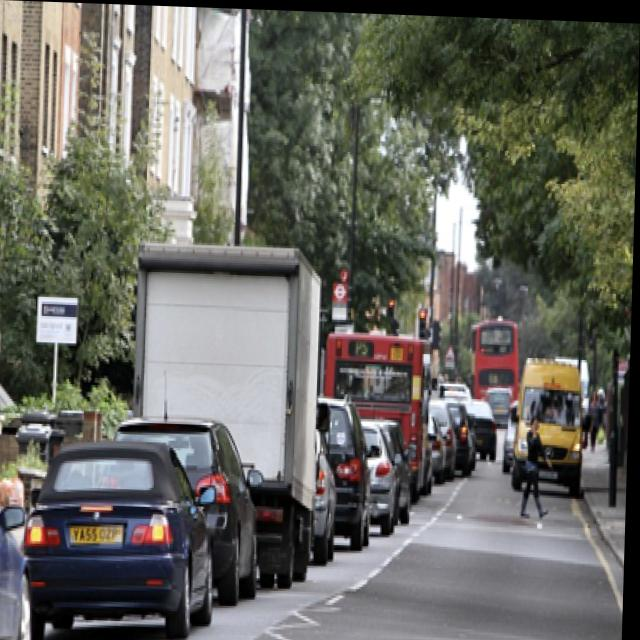licence: (72, 517, 127, 548)
